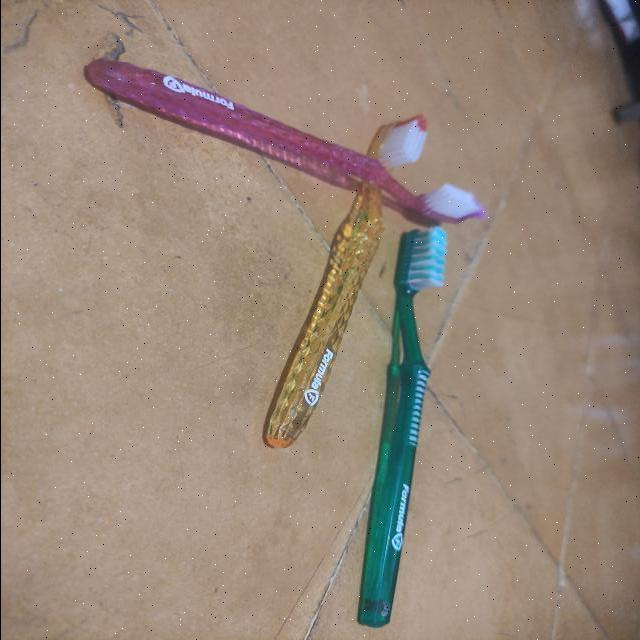toothbrush: (57, 40, 489, 228), (246, 105, 444, 462), (339, 216, 464, 638)
